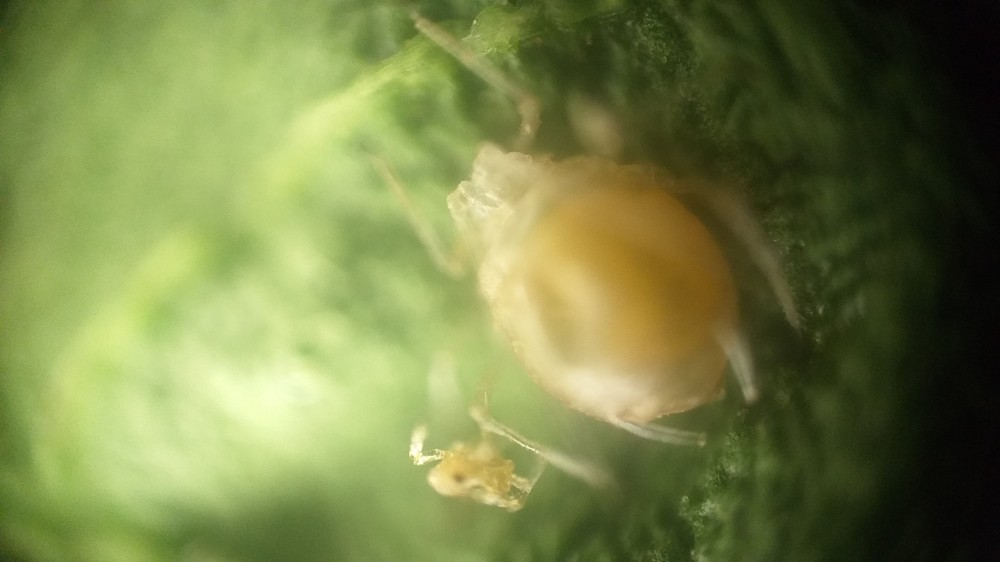Pulgon: (368, 41, 815, 472)
